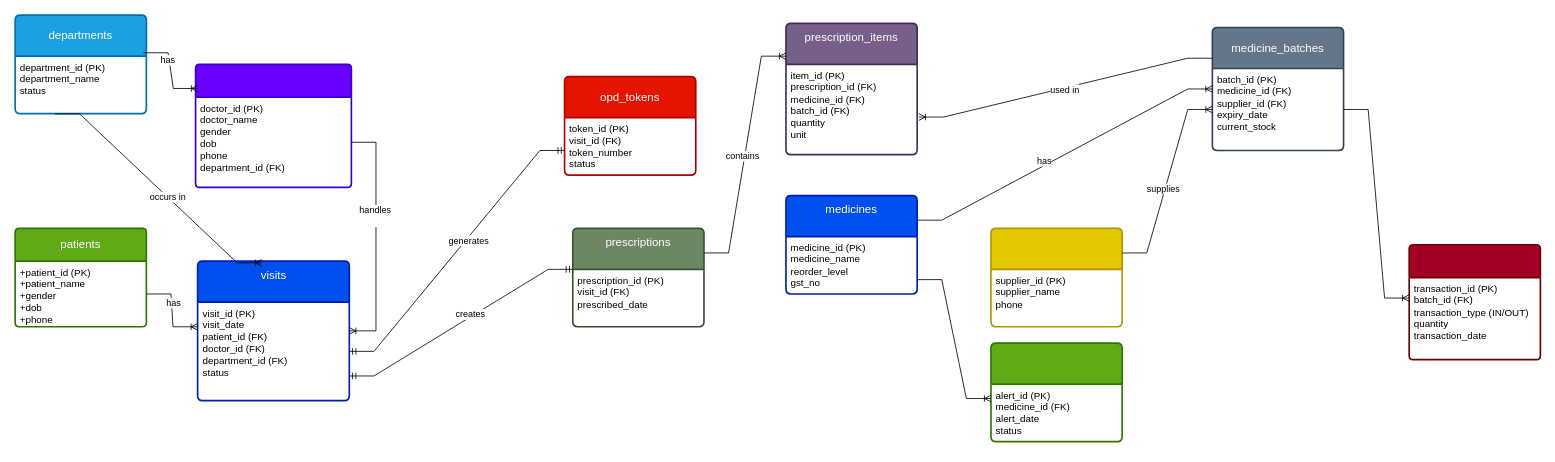
Some shapes in this 1555 by 462 pixel diagram are drawn without their labels. The shapes that lost their labels are listed below. From the top down, each one's box as (x1, y1, x2, y2) in pixels, then its label:
(194, 63, 352, 188): doctors
(990, 227, 1123, 327): suppliers
(1408, 244, 1541, 360): stock_transactions
(990, 342, 1123, 442): low_stock_alerts
